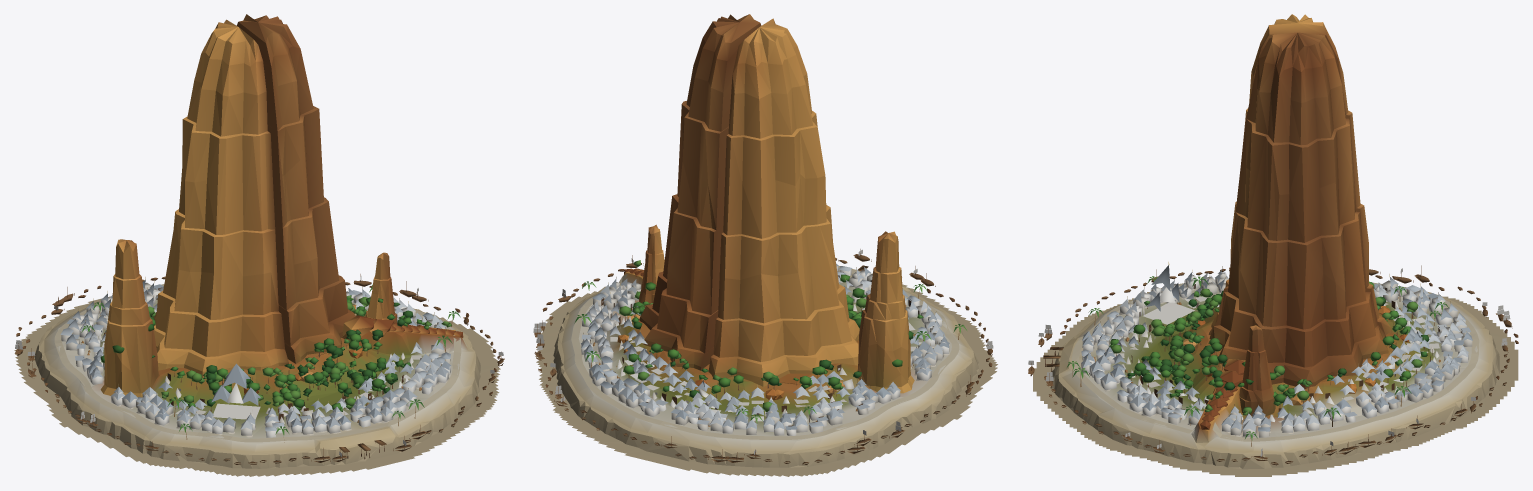
3 views of the same model, side by side, from view 1: azimuth 30°, elevation 25°; view 2: azimuth 150°, elevation 25°; view 3: azimuth 270°, elevation 25° (orthographic).
Visible parts, largest first — view 1: BASE, VILLE_2, VILLE_3, VILLE_4; view 2: BASE, VILLE_2, VILLE_3; view 3: BASE, VILLE_2, VILLE_3, VILLE_4.
Part boxes in pixels (x1,y1,x2,y2): BASE: [14, 14, 504, 476]; VILLE_2: [15, 274, 440, 402]; VILLE_3: [98, 295, 422, 423]; VILLE_4: [211, 363, 260, 419]; BASE: [535, 14, 997, 476]; VILLE_2: [533, 304, 939, 464]; VILLE_3: [609, 276, 922, 421]; BASE: [1028, 14, 1518, 476]; VILLE_2: [1293, 265, 1518, 457]; VILLE_3: [1112, 284, 1440, 422]; VILLE_4: [1143, 262, 1194, 324].
Bounding box in the file's own units: 64 × 52 × 66.79.
